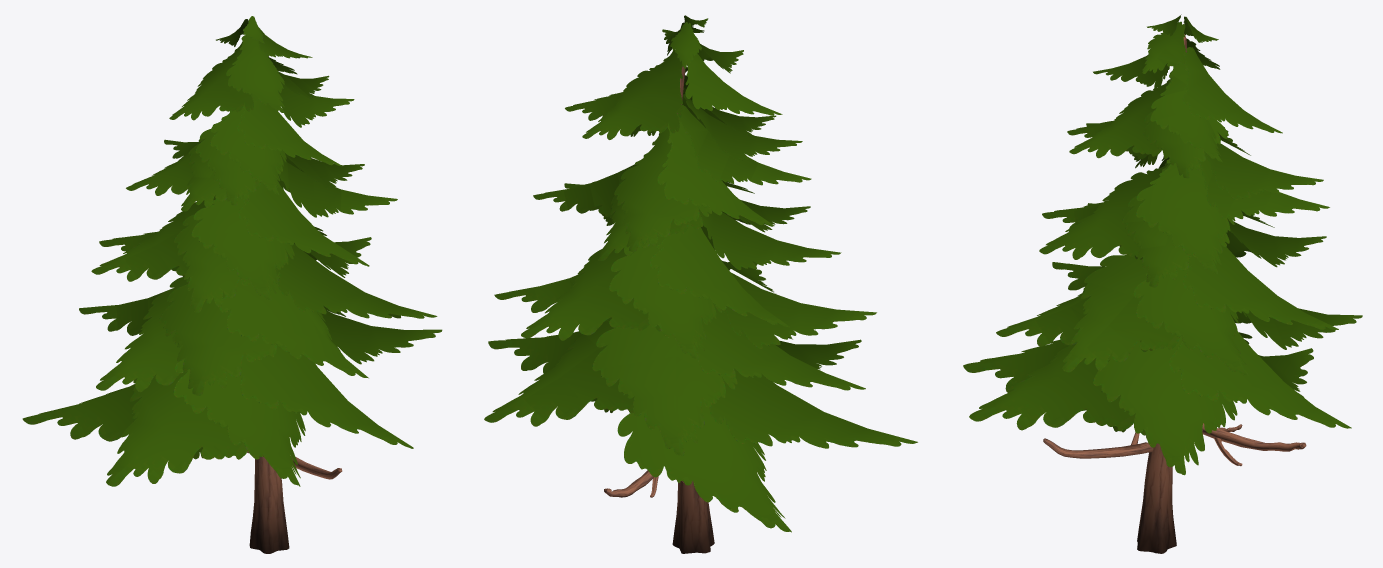
Rendered from pine2.glb.
The picture shows the model from 3 angles, left to right: view 1: azimuth 30°, elevation 25°; view 2: azimuth 150°, elevation 25°; view 3: azimuth 270°, elevation 25°; orthographic projection. The views are drawn at different scales.
Parts seen in each view (by area): view 1: Pine_2; view 2: Pine_2; view 3: Pine_2.
Boxes of the visible parts, x1,y1,x2,y2 form: Pine_2: [22, 16, 442, 553]; Pine_2: [484, 15, 917, 553]; Pine_2: [963, 14, 1362, 553].
Size of the model in its own units: 5.73 by 7.38 by 5.22.
2 materials, 2 textured.
